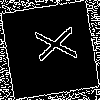X: (24, 25, 78, 66)
